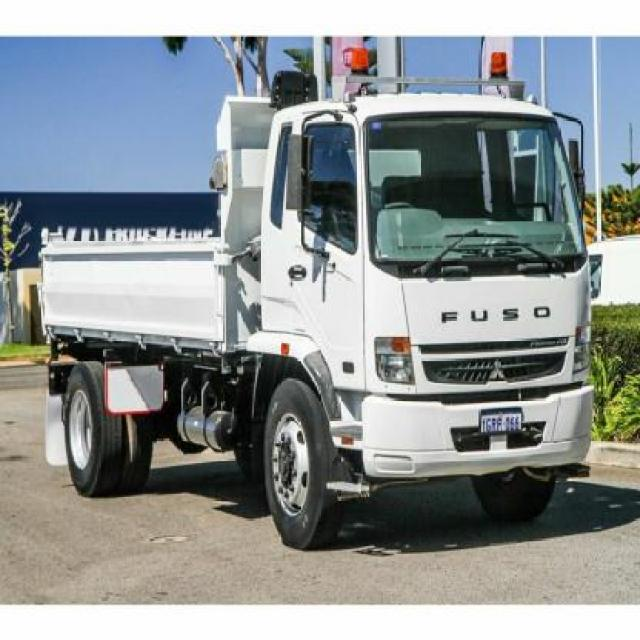truck: (39, 49, 598, 541)
